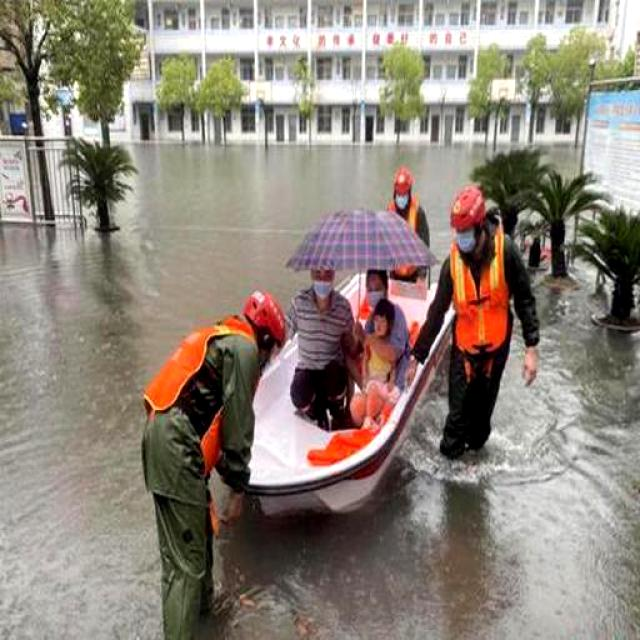civilian: (274, 264, 364, 433), (350, 266, 411, 403), (346, 298, 399, 432)
rescuer: (134, 284, 291, 640), (399, 183, 549, 472), (376, 167, 436, 288)
